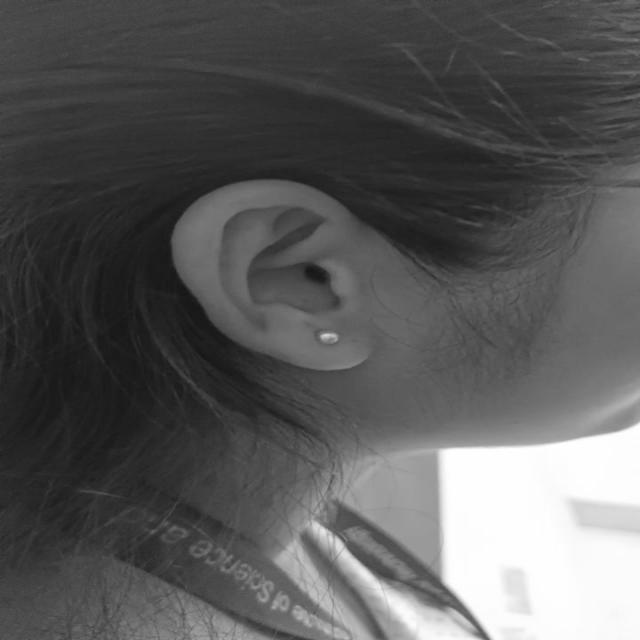ear: (172, 180, 372, 370), (360, 252, 361, 255)
